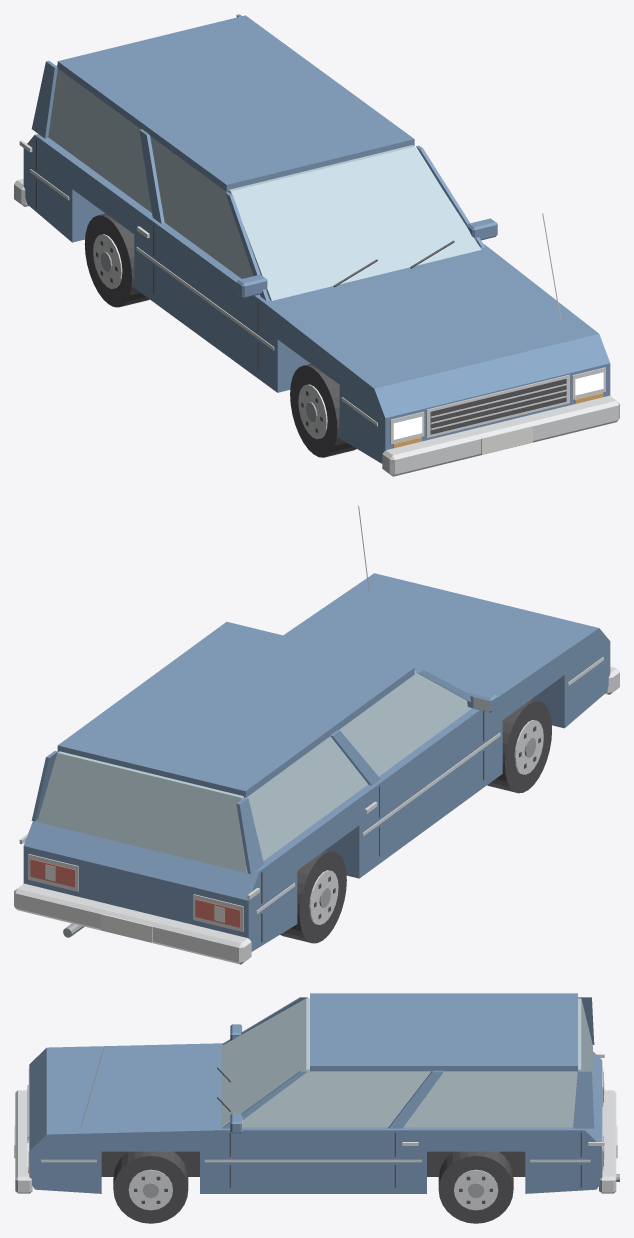
File: car_wagon_b.glb
3 renders of one model, top to bottom at view 1: azimuth 30°, elevation 25°; view 2: azimuth 150°, elevation 25°; view 3: azimuth 270°, elevation 25°, orthographic. The views are drawn at different scales.
Parts seen in each view (by area): view 1: car_wagon_b_car_b, car_wagon_b_glass, car_wagon_b_chrome, car_wagon_b_rubber, car_wagon_b_dark, car_wagon_b_lamp_glass, car_wagon_b_paint_w; view 2: car_wagon_b_car_b, car_wagon_b_glass, car_wagon_b_chrome, car_wagon_b_rubber, car_wagon_b_neon_r, car_wagon_b_paint_w; view 3: car_wagon_b_car_b, car_wagon_b_glass, car_wagon_b_rubber, car_wagon_b_chrome, car_wagon_b_dark, car_wagon_b_steel.
Boxes of the visible parts, bbox=[...] form: car_wagon_b_car_b: bbox=[23, 14, 610, 463]; car_wagon_b_glass: bbox=[48, 64, 481, 300]; car_wagon_b_chrome: bbox=[14, 140, 619, 476]; car_wagon_b_rubber: bbox=[84, 213, 356, 457]; car_wagon_b_dark: bbox=[36, 138, 566, 434]; car_wagon_b_lamp_glass: bbox=[393, 372, 603, 439]; car_wagon_b_paint_w: bbox=[481, 426, 532, 454]; car_wagon_b_car_b: bbox=[23, 573, 610, 951]; car_wagon_b_glass: bbox=[37, 671, 471, 872]; car_wagon_b_chrome: bbox=[14, 505, 619, 964]; car_wagon_b_rubber: bbox=[280, 699, 551, 943]; car_wagon_b_neon_r: bbox=[30, 859, 240, 927]; car_wagon_b_paint_w: bbox=[45, 864, 224, 942]; car_wagon_b_car_b: bbox=[29, 993, 602, 1193]; car_wagon_b_glass: bbox=[221, 998, 592, 1127]; car_wagon_b_rubber: bbox=[101, 1151, 525, 1223]; car_wagon_b_chrome: bbox=[15, 1048, 616, 1210]; car_wagon_b_dark: bbox=[27, 1067, 581, 1203]; car_wagon_b_steel: bbox=[142, 1174, 619, 1197].
Bounding box in the file's own units: 2 × 1.6 × 5.18.
